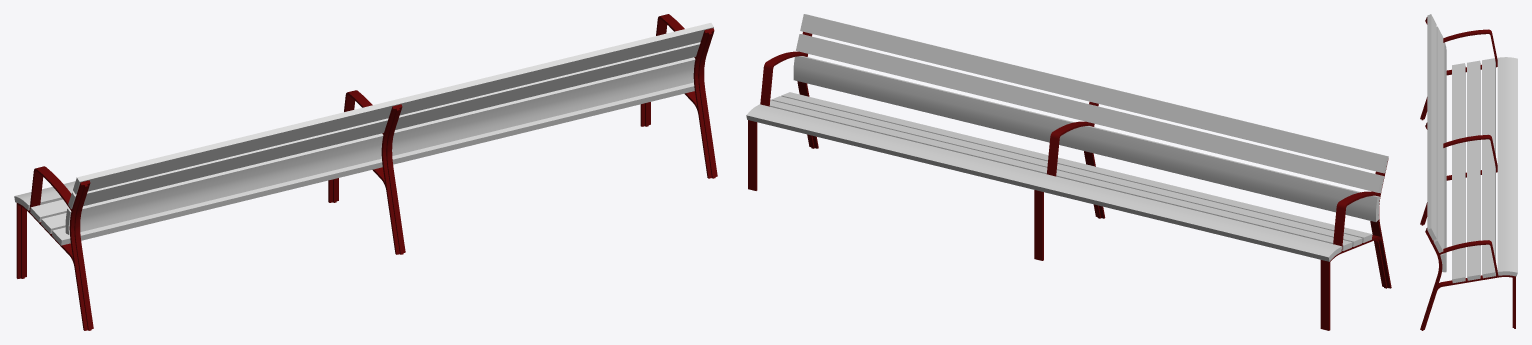
The picture shows the model from 3 angles, left to right: view 1: azimuth 30°, elevation 25°; view 2: azimuth 150°, elevation 25°; view 3: azimuth 270°, elevation 25°; orthographic projection. The views are drawn at different scales.
Parts seen in each view (by area): view 1: mesh4_mesh4-geometry, mesh6_mesh6-geometry, mesh1_mesh1-geometry; view 2: mesh4_mesh4-geometry, mesh6_mesh6-geometry, mesh1_mesh1-geometry; view 3: mesh4_mesh4-geometry, mesh6_mesh6-geometry, mesh1_mesh1-geometry.
Boxes of the visible parts, x1,y1,x2,y2 form: mesh4_mesh4-geometry: (30, 23, 713, 245); mesh6_mesh6-geometry: (14, 57, 695, 234); mesh1_mesh1-geometry: (16, 14, 717, 330); mesh4_mesh4-geometry: (769, 14, 1388, 250); mesh6_mesh6-geometry: (746, 56, 1379, 261); mesh1_mesh1-geometry: (748, 31, 1391, 330); mesh4_mesh4-geometry: (1427, 14, 1495, 283); mesh6_mesh6-geometry: (1440, 42, 1517, 276); mesh1_mesh1-geometry: (1420, 17, 1515, 330).
Bounding box in the file's own units: 0.959 × 0.2149 × 0.1849.
